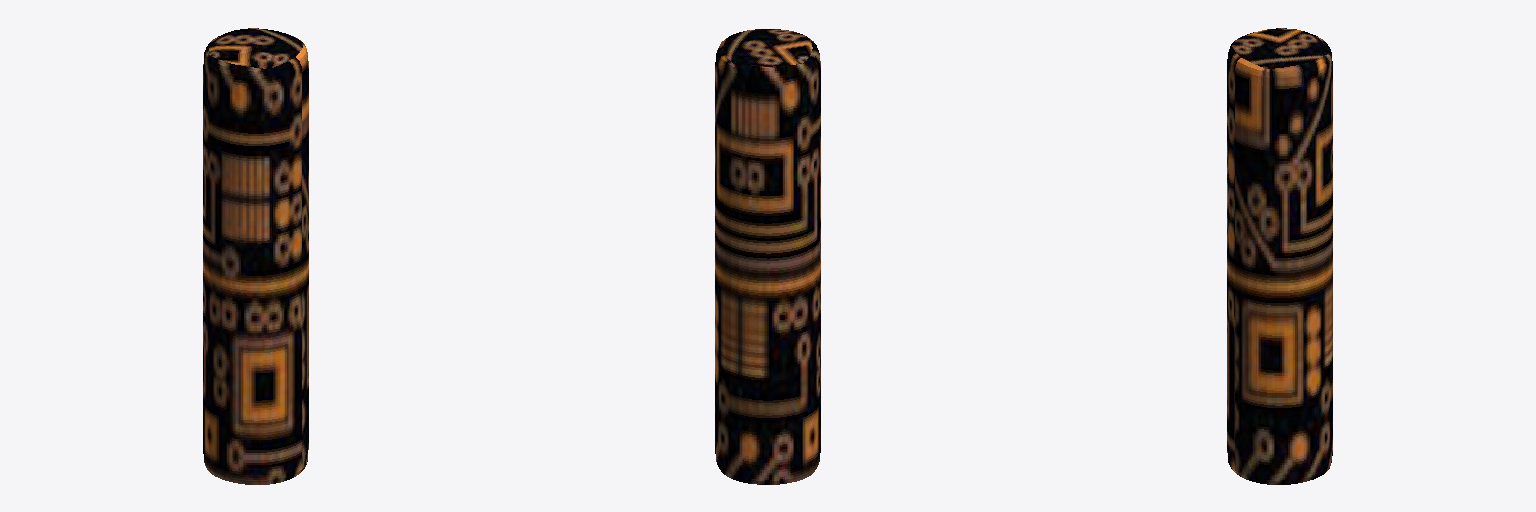
3 renders of one model, left to right at view 1: azimuth 30°, elevation 25°; view 2: azimuth 150°, elevation 25°; view 3: azimuth 270°, elevation 25°, orthographic.
Visible parts, largest first — view 1: LeftHand_Cylinder_003; view 2: LeftHand_Cylinder_003; view 3: LeftHand_Cylinder_003.
Part boxes in pixels (bbox=[...]): LeftHand_Cylinder_003: bbox=[203, 28, 308, 484]; LeftHand_Cylinder_003: bbox=[715, 29, 820, 484]; LeftHand_Cylinder_003: bbox=[1227, 28, 1332, 484].
Size of the model in its own units: 1.92 by 8.45 by 1.92.
1 materials, 1 textured.